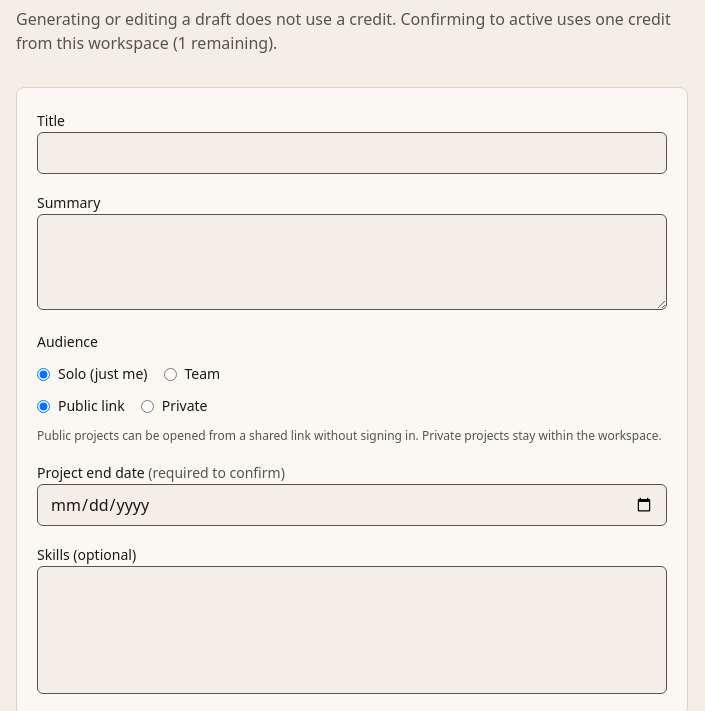
Scenario: CreateProjectPage › blocks confirm when project end date is missing
Type "Manual draft project" into the field labelled "Title" at (352,153), box [37, 132, 667, 174]
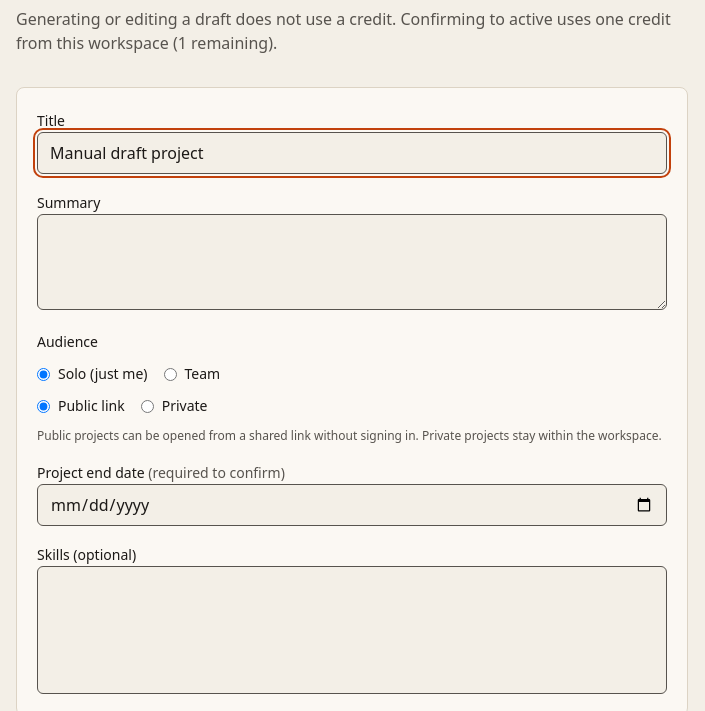
Type "2026-12-01" into the date field labelled "Project end date (required to confirm)" at (352,505), box [37, 484, 667, 526]
(page scrolled)
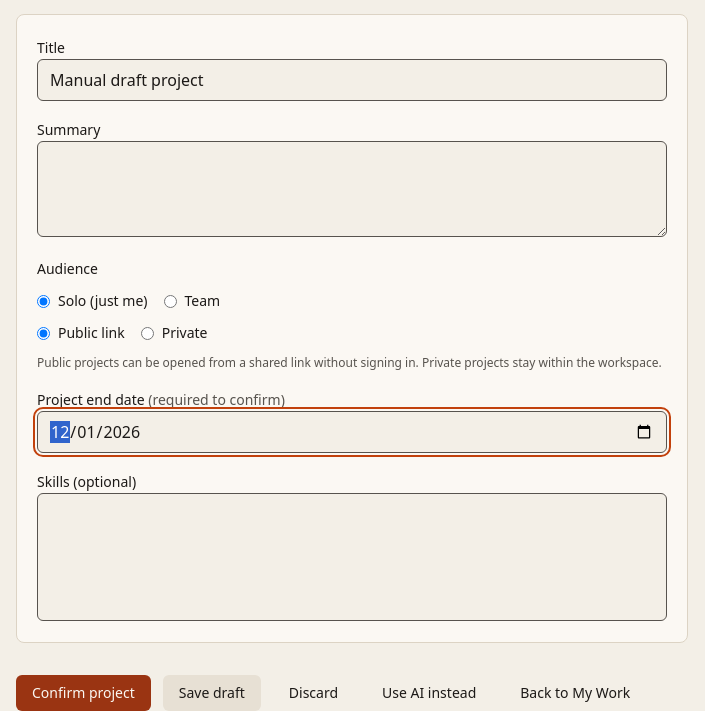
expect the button "Confirm project" is enabled: met, box [16, 675, 151, 710]
